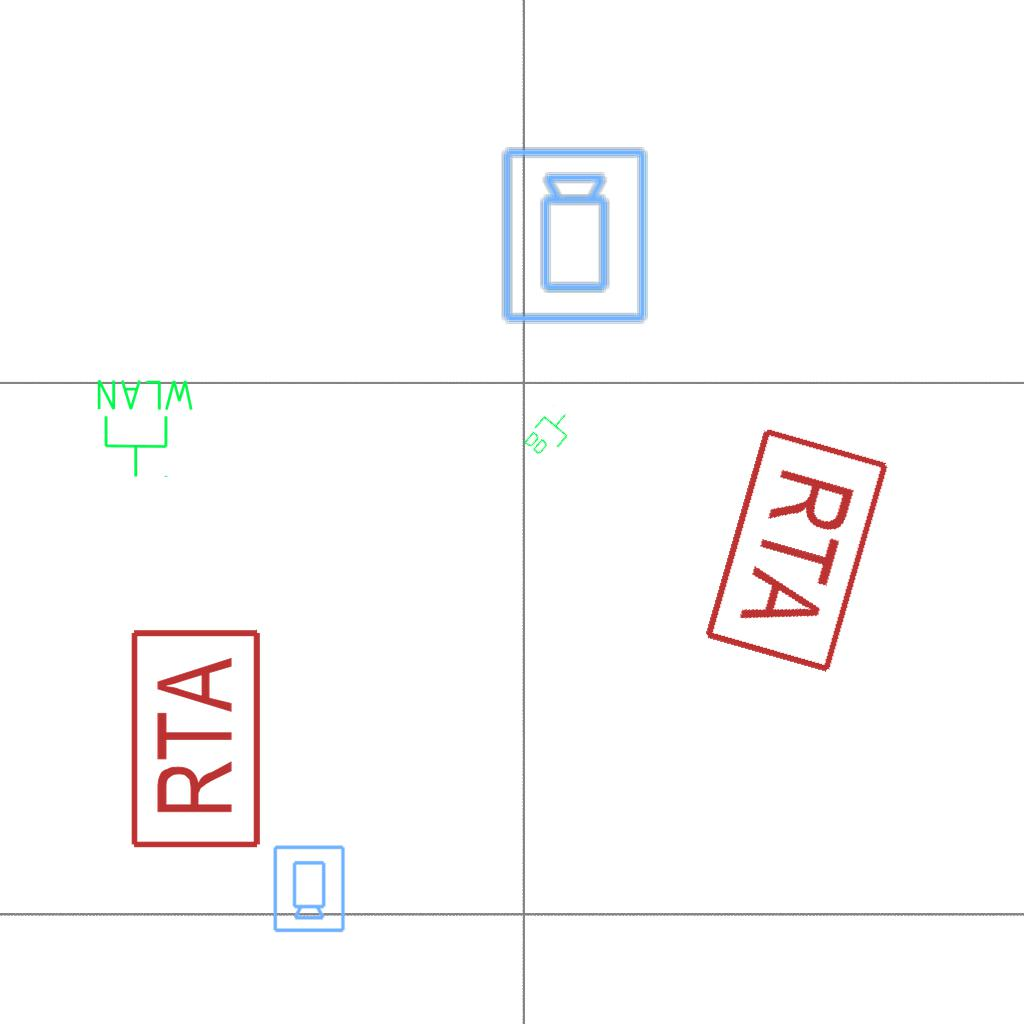Datenanschluss_zweifach: (520, 402, 579, 464)
KFO_Kamera_mit_Festobjektiv: (499, 145, 653, 327), (270, 843, 347, 934)
Ruf-und_Abstelltaster: (699, 419, 895, 677), (127, 627, 265, 855)
WLAN: (93, 376, 198, 480)
